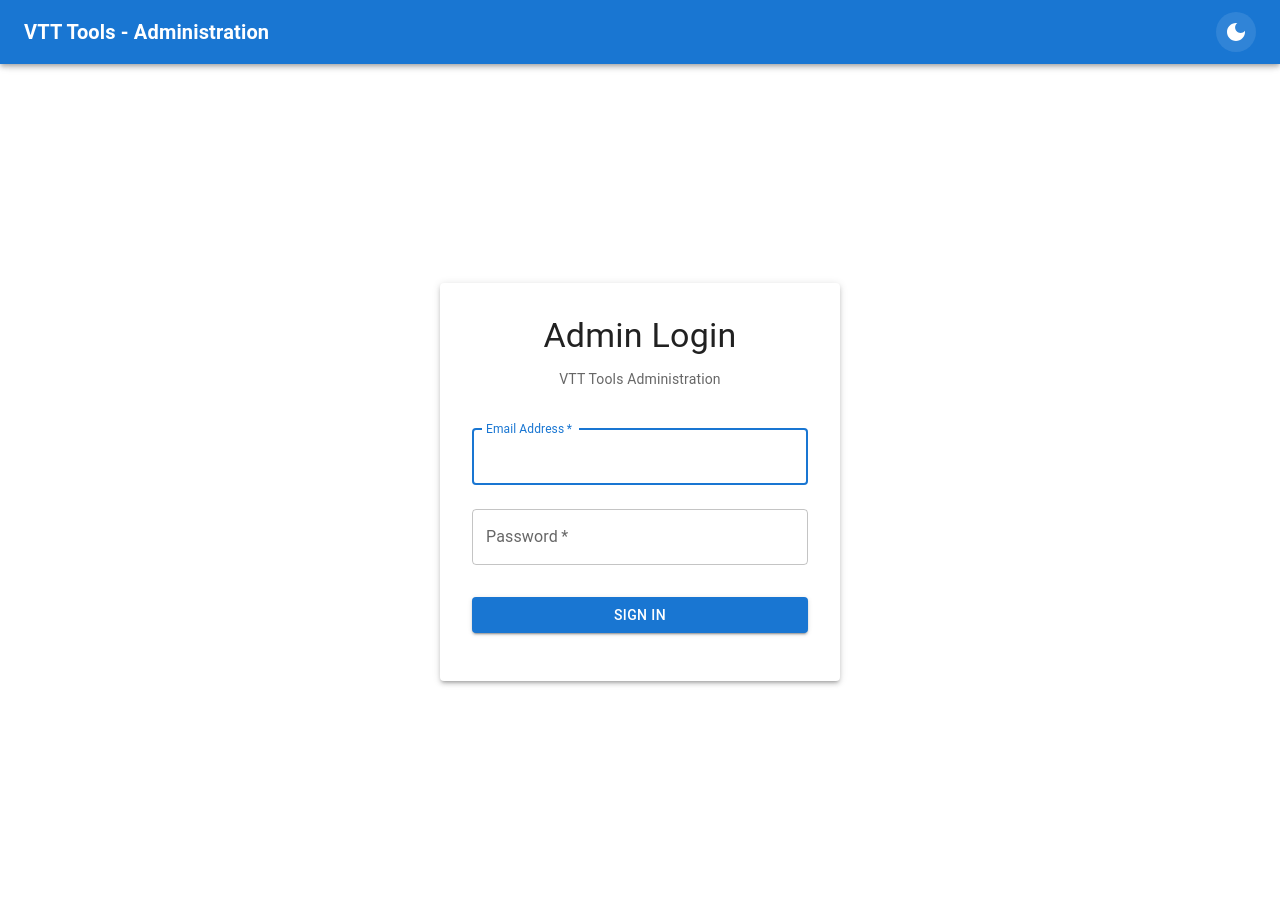
LoginPage › Two-factor authentication › should show 2FA field when response requires two-factor
In the field labelled "Email Address *": (640, 457) 472,429 -> 808,485, type "admin@example.com"
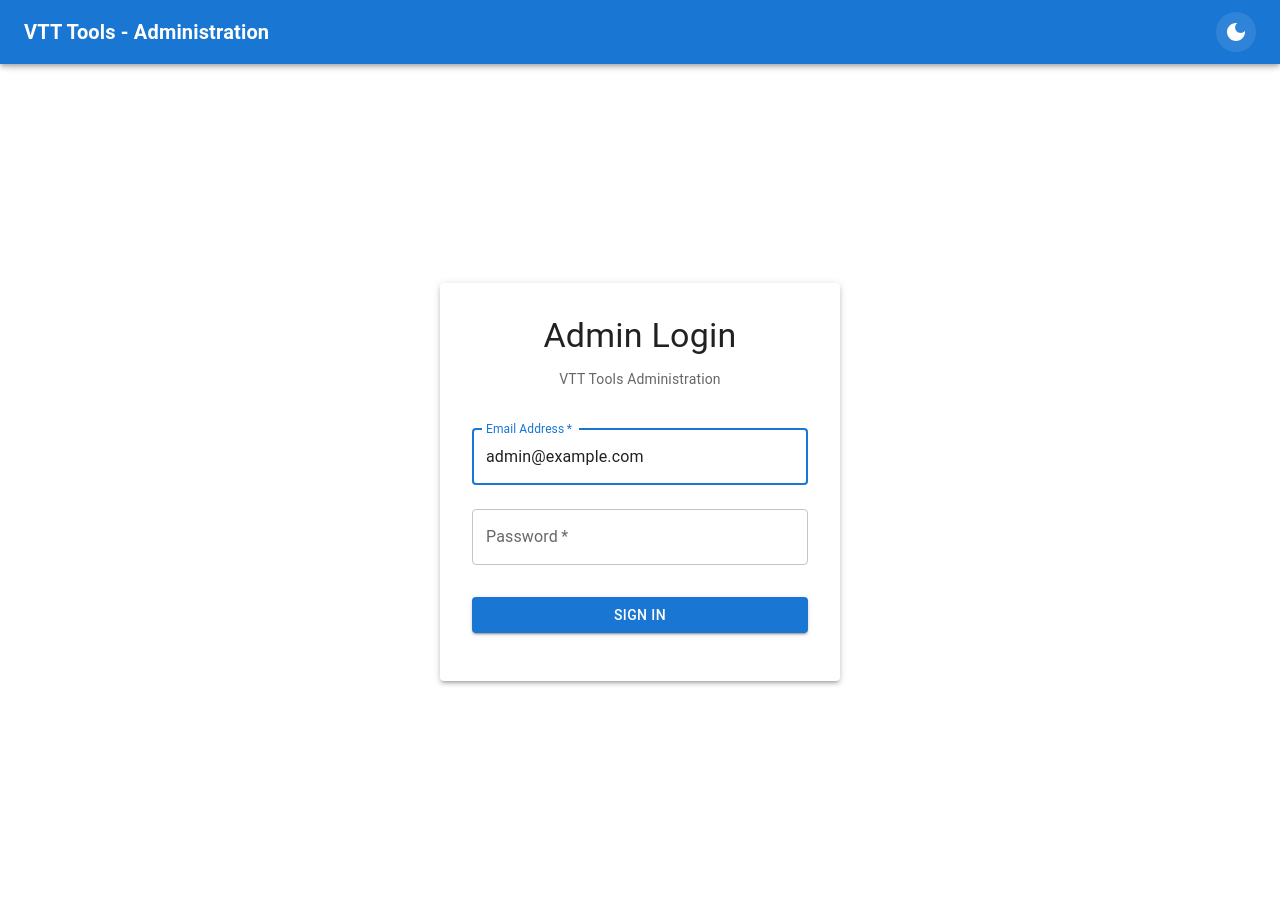
In the password field labelled "Password *": (640, 537) 472,509 -> 808,565, type "validpassword123"
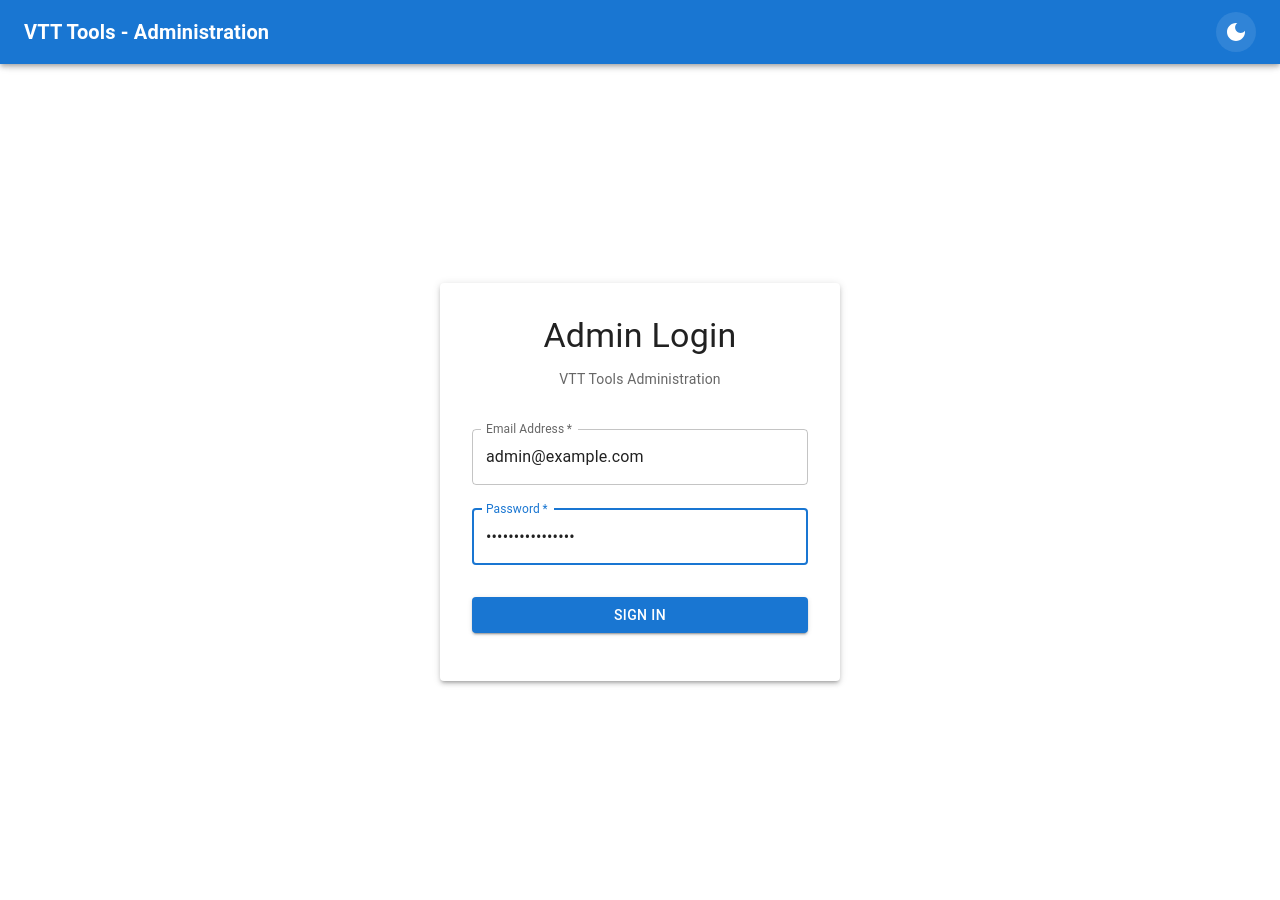
Click the button "Sign In": (640, 615) 472,597 -> 808,633
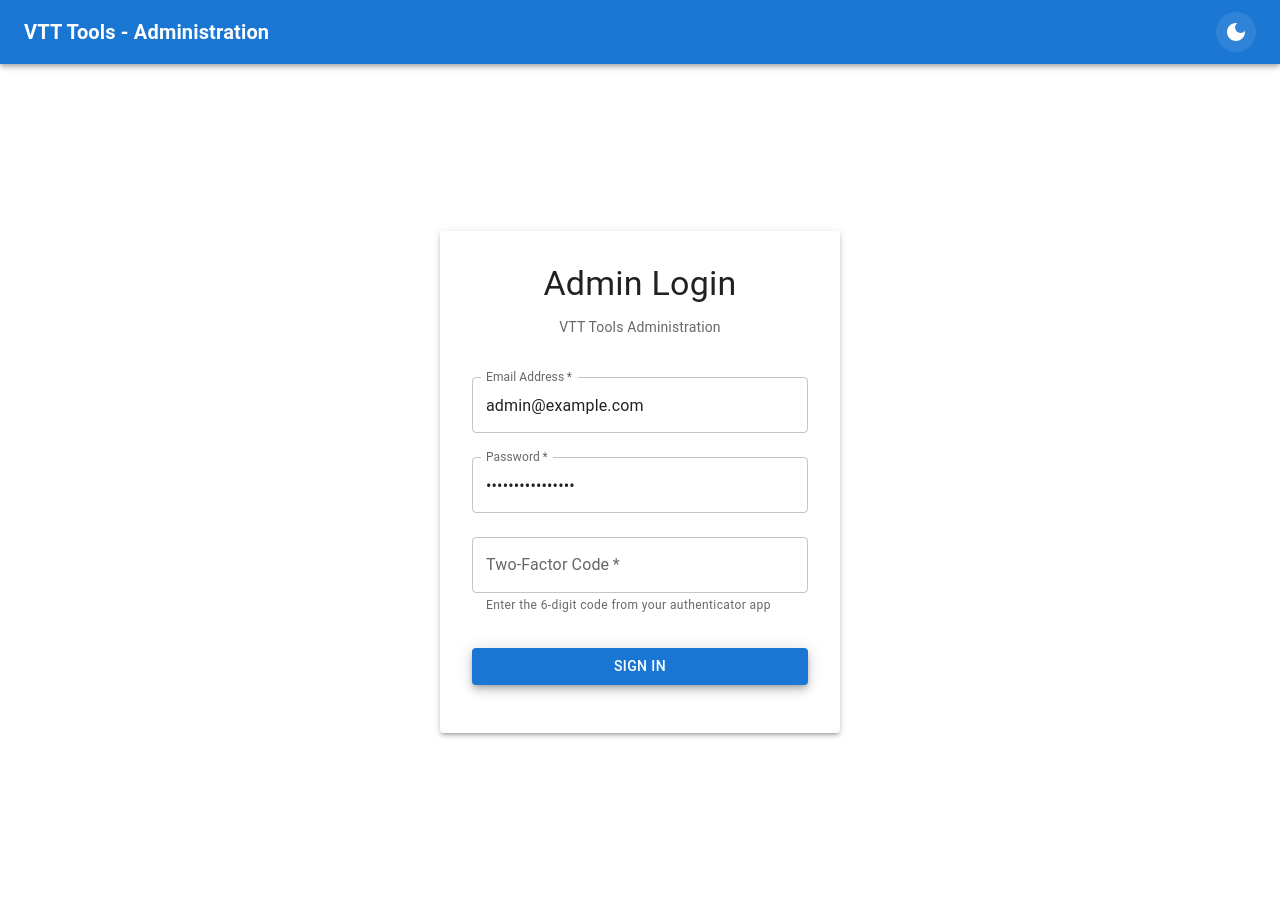
Result: the field labelled "Two-Factor Code *" is shown at 472,537 -> 808,593
